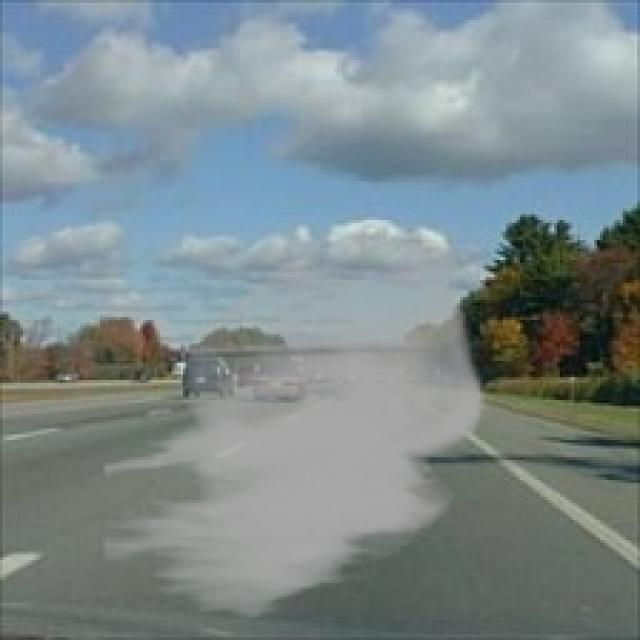smoke: (100, 240, 486, 623)
